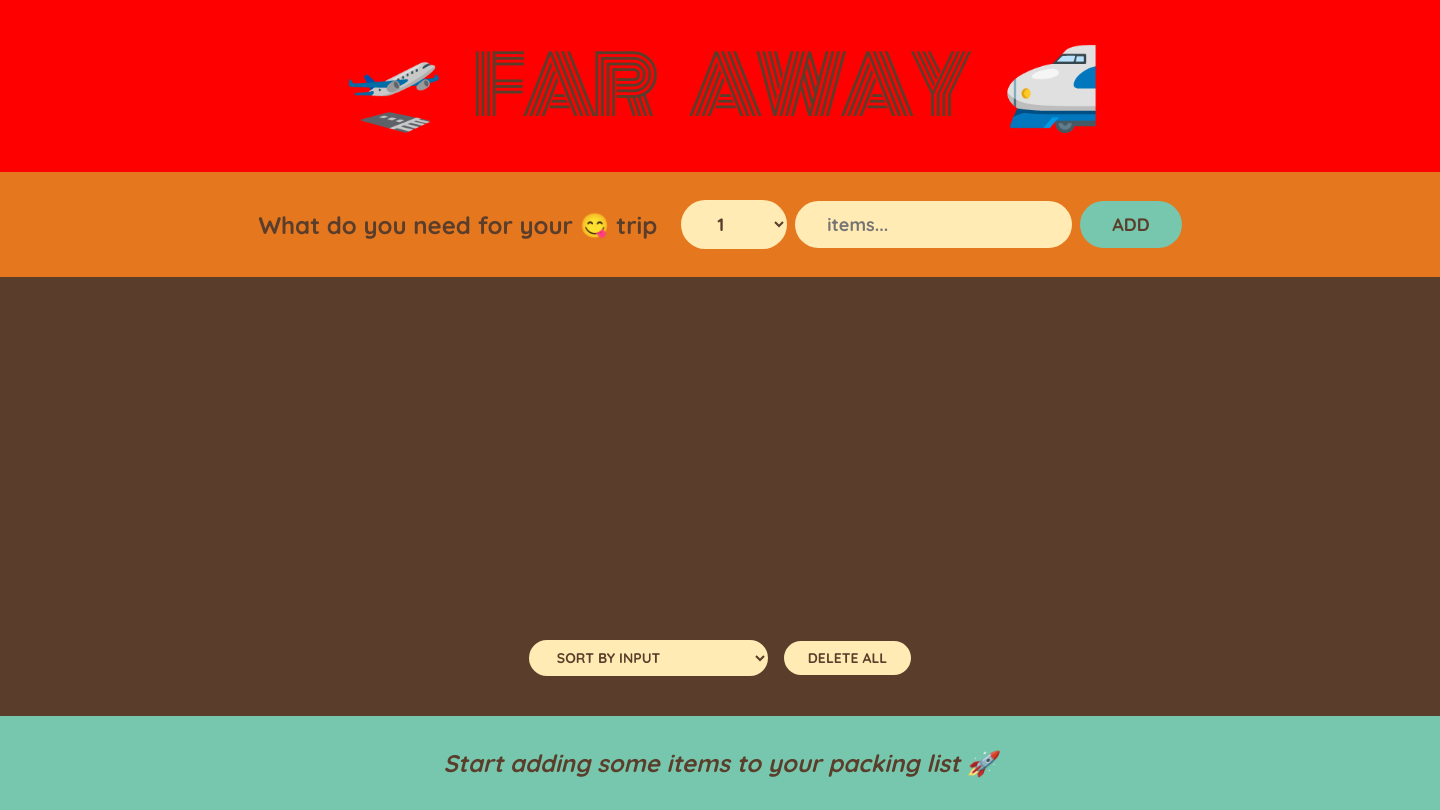
Test: check whether clicking the add button add items to the list
The width and height of the screenshot is (1440, 810).
Select "1" in the dropdown with test id "select" at (734, 224), box [681, 200, 787, 249]
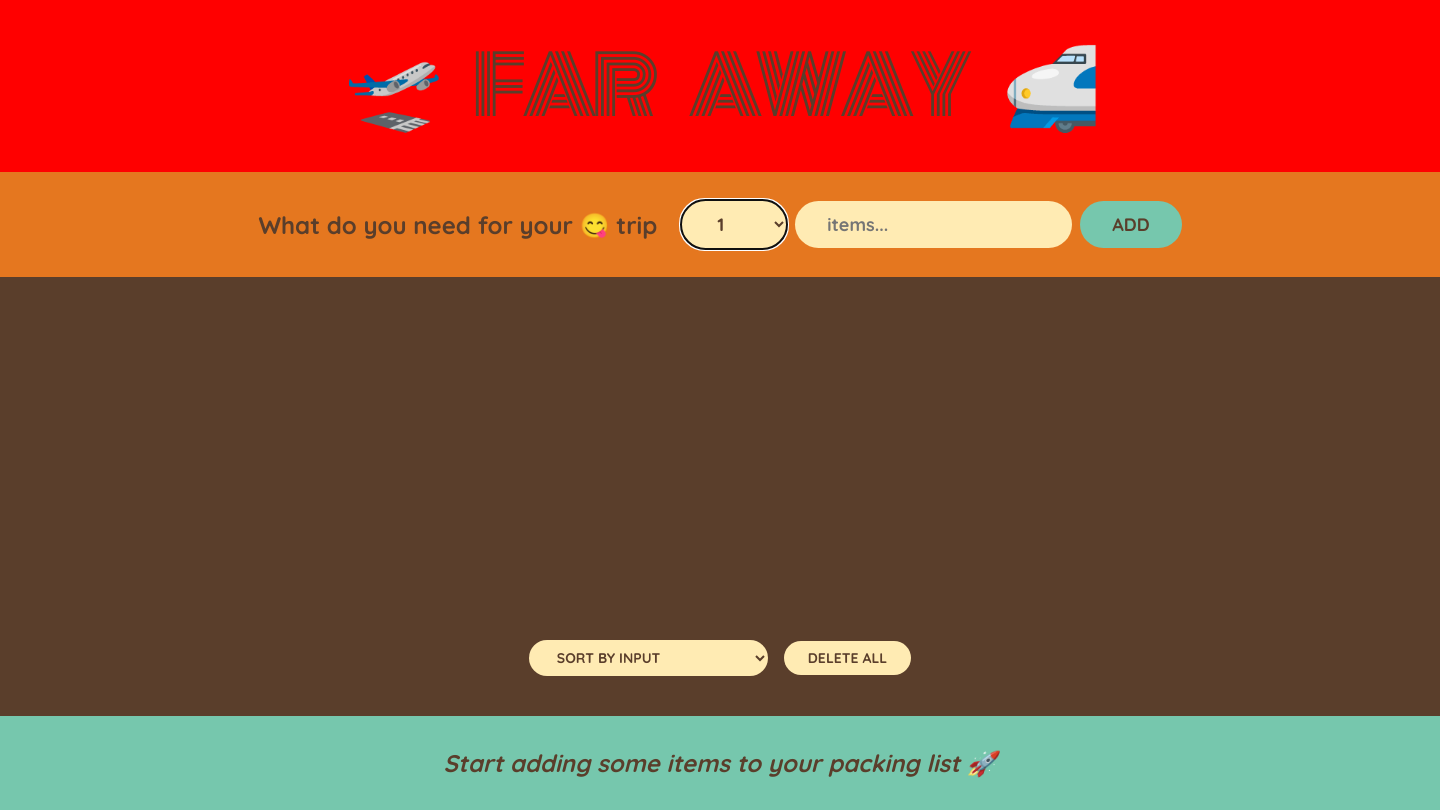
Type "socks" into the field.
click(934, 224); type("socks")  # box [795, 201, 1072, 248]
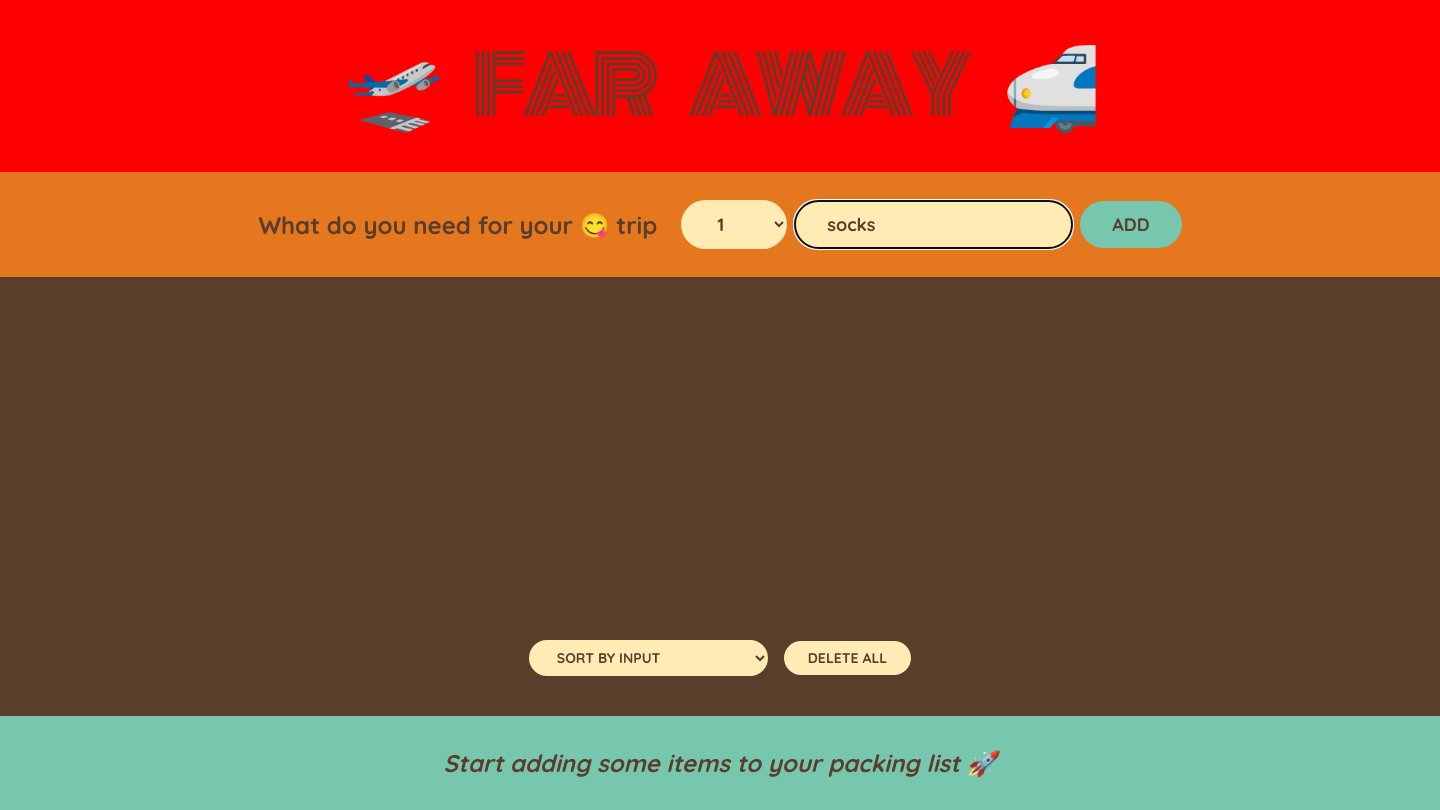
Click the button with test id "addBtn".
click(1131, 224)  # box [1080, 201, 1182, 248]
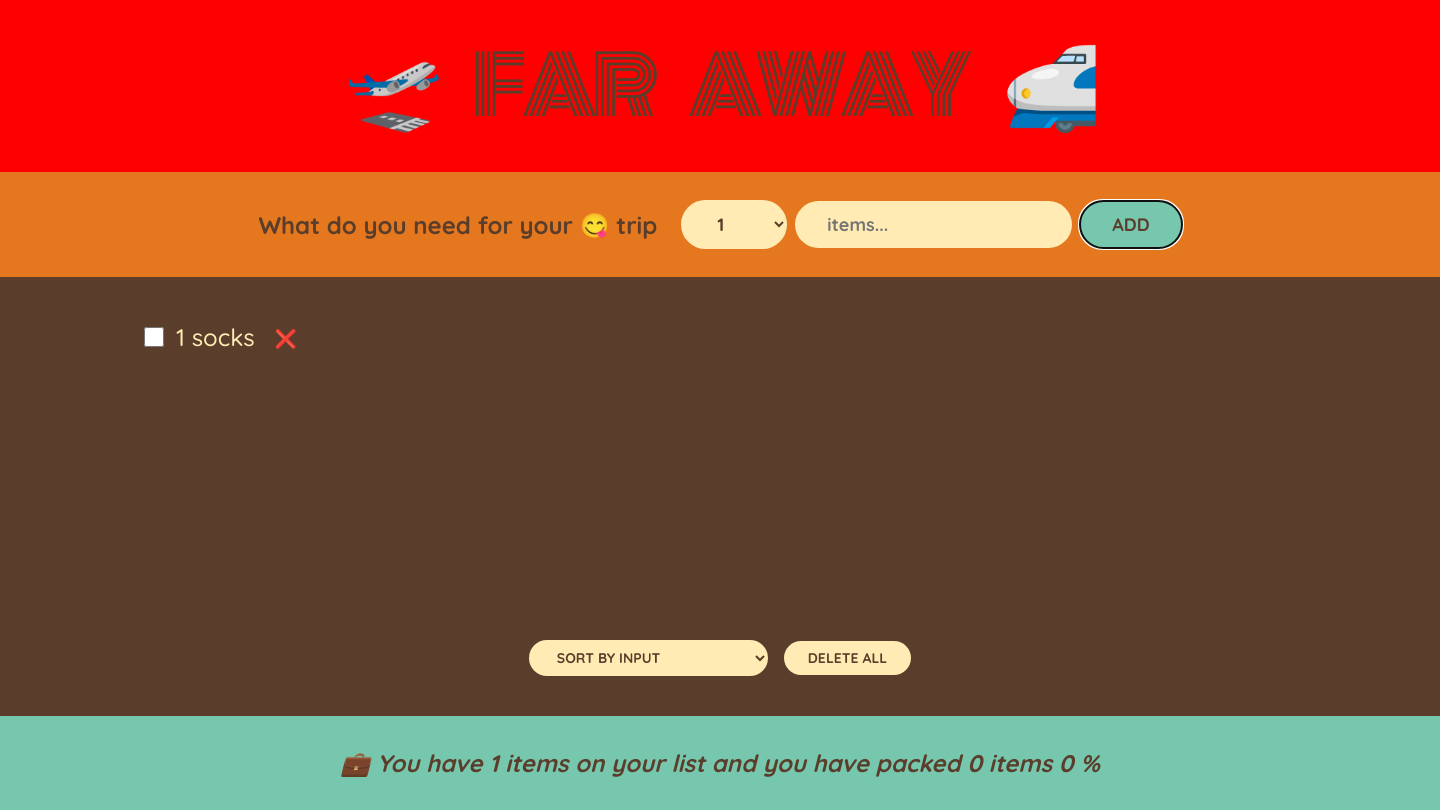
Check: the text "1 socks" is shown, box [176, 322, 254, 352]
